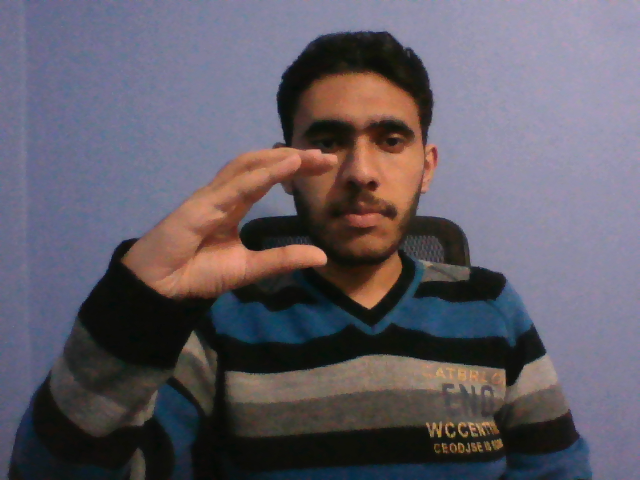C: (125, 143, 339, 309)
